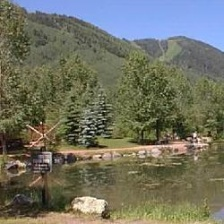neutral: (2, 2, 221, 218)
